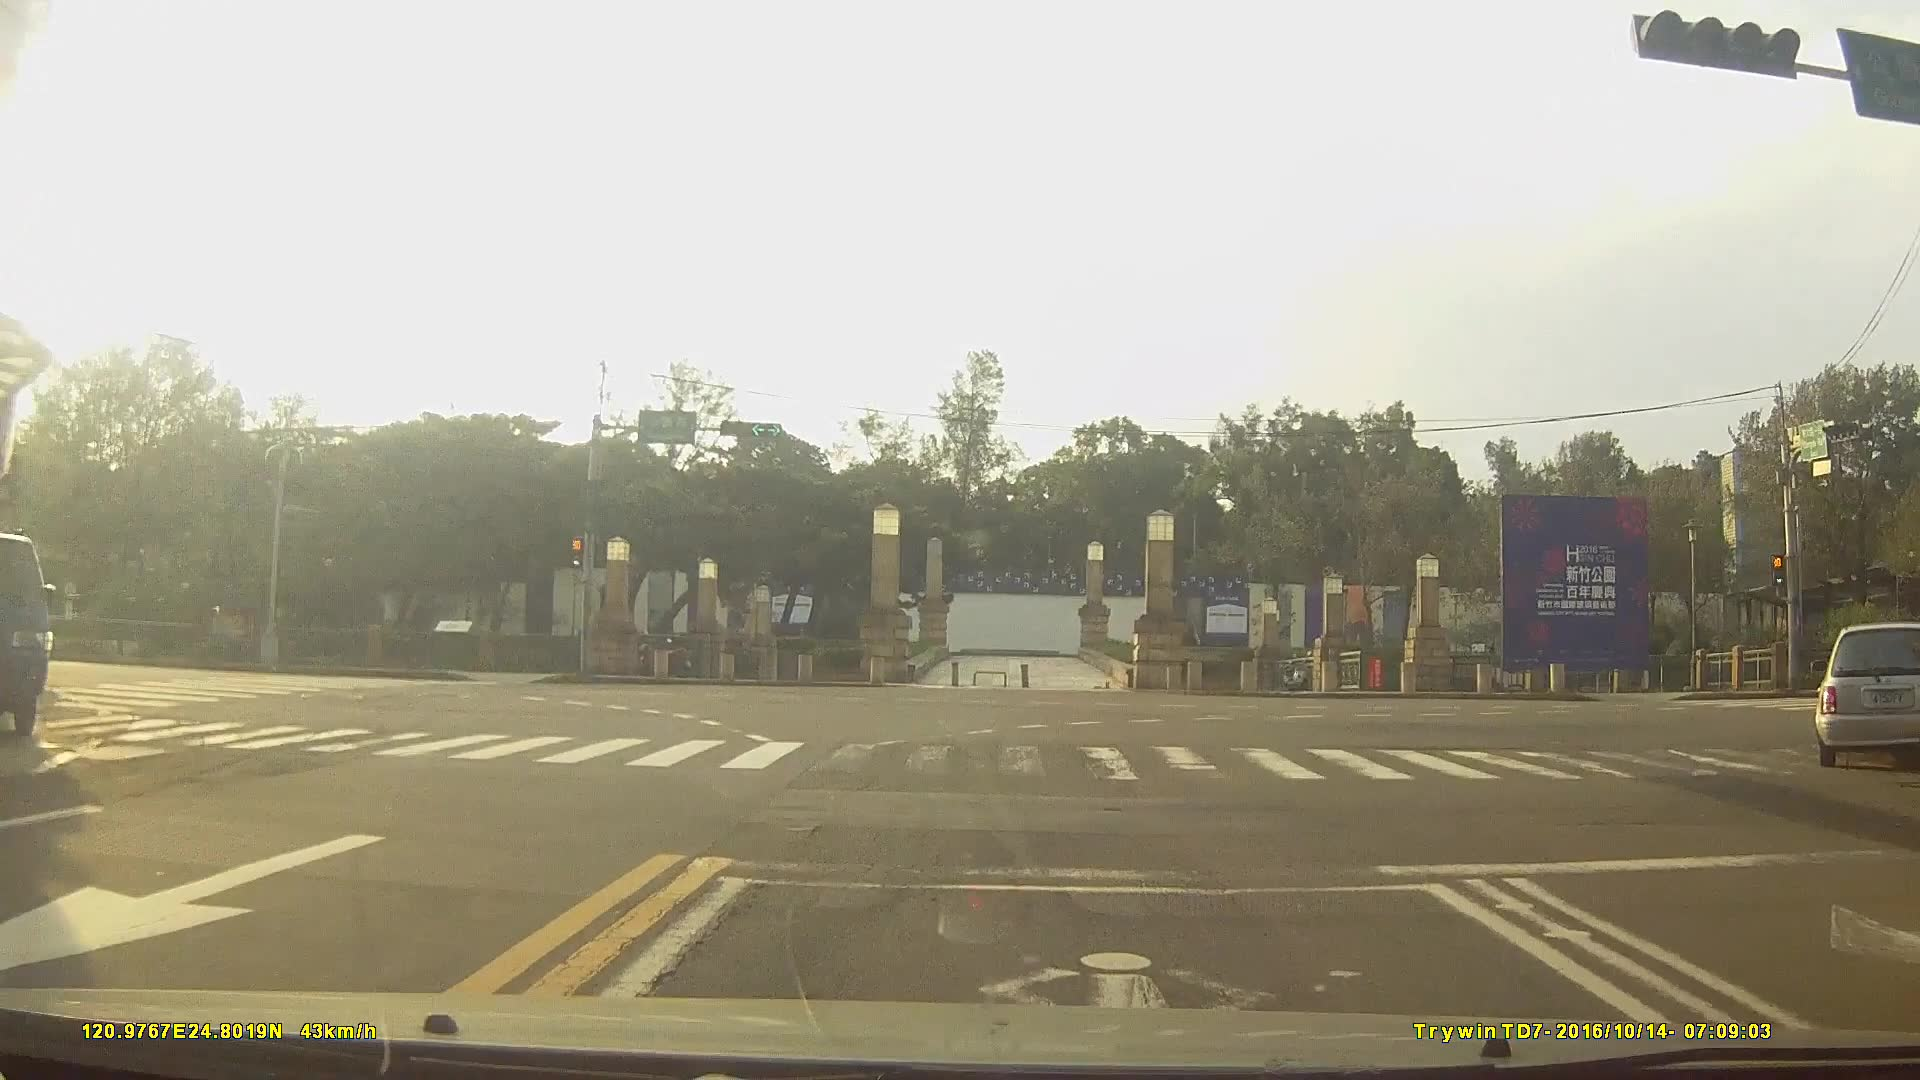vehicle: (1816, 618, 1920, 764), (0, 526, 51, 738)
